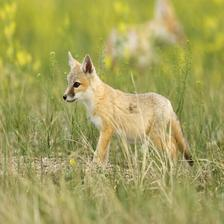fox: (58, 43, 196, 193)
